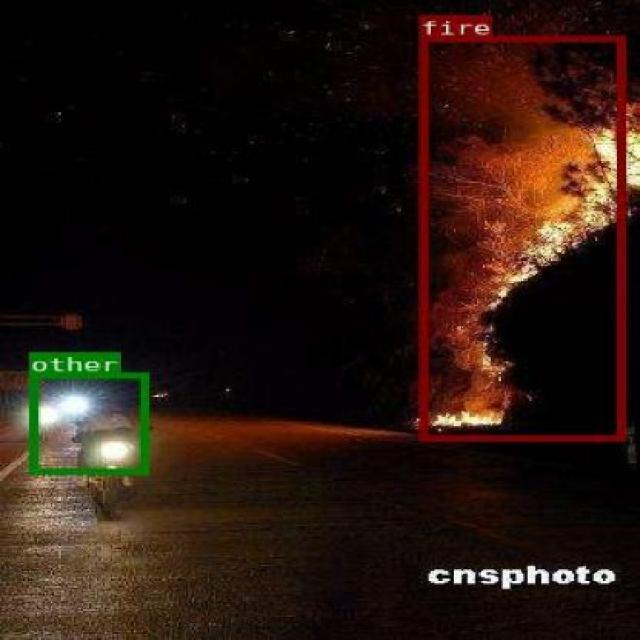Fire: (418, 34, 624, 440)
